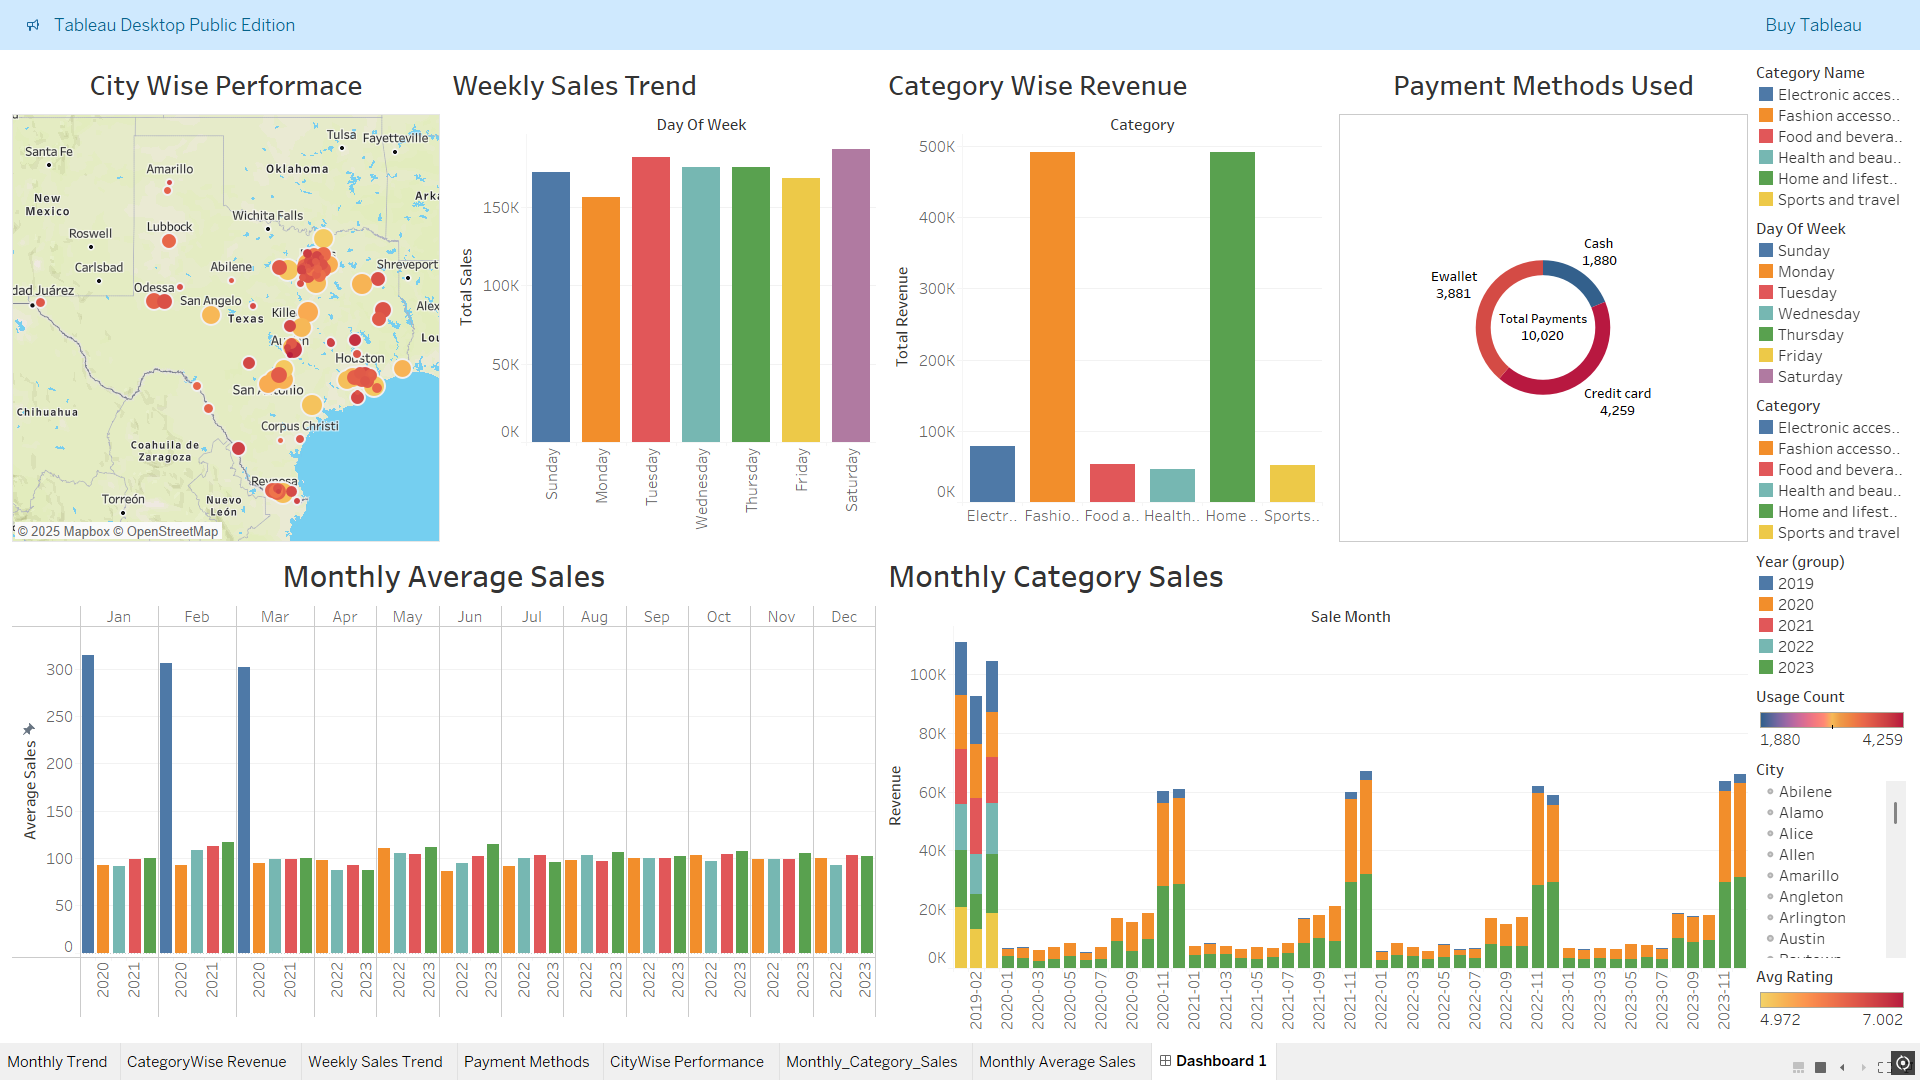

What the dashboard file says about the page in this screenshot:
{"tool":"tableau","page":{"name":"Dashboard 1","canvas":[1000,1000],"units":"permille","ordinal":0},"visuals":[{"type":"worksheet","title":"CityWise Performance","mark":"Automatic","box":[4.8,10,223.4,490]},{"type":"worksheet","title":"Weekly Sales Trend","mark":"Automatic","rows":["total_sales"],"cols":["day_of_week"],"box":[228.2,10,223.4,490]},{"type":"worksheet","title":"CategoryWise Revenue","mark":"Automatic","rows":["total_revenue"],"cols":["category"],"box":[451.7,10,233.4,490]},{"type":"worksheet","title":"Payment Methods","mark":"Pie","rows":["Calculation_2376493240498331650","Calculation_2376493240498331650"],"box":[685,10,213.6,490]},{"type":"legend","title":"CategoryWise Revenue","param":"[federated.0fmiogn0imw67k18lvof10006rys].[none:category_name:nk]","box":[898.6,10,96.6,159.5]},{"type":"legend","title":"Weekly Sales Trend","param":"[federated.0uotaad1rr5je811m7dol0nbb44z].[none:day_of_week:nk]","box":[898.6,169.5,96.6,159.5]},{"type":"legend","title":"Monthly_Category_Sales","param":"[federated.0b118ti0i18ln51dh2f7b1y27nz1].[none:category:nk]","box":[898.6,329.1,96.6,159.5]},{"type":"legend","title":"Monthly Average Sales","param":"[federated.06746b408di6w01b1sbk90eja7q6].[Year (group)]","box":[898.6,488.6,96.6,159.5]},{"type":"worksheet","title":"Monthly Average Sales","mark":"Bar","rows":["AverageSales"],"cols":["Month","Year"],"box":[4.8,500,446.8,490]},{"type":"worksheet","title":"Monthly_Category_Sales","mark":"Automatic","rows":["revenue"],"cols":["sale_month"],"box":[451.7,500,446.9,490]},{"type":"legend","title":"Payment Methods","param":"[federated.1qu5khe1pkrl0t17ogbge1m98rvr].[sum:usage_count:qk]","box":[898.6,648.1,96.6,91.1]},{"type":"legend","title":"CityWise Performance","param":"[federated.1ttqw5y1a5gfd513fwf9m1yjb0e7].[none:City:nk]","box":[898.6,739.3,96.6,159.5]},{"type":"legend","title":"CityWise Performance","param":"[federated.1ttqw5y1a5gfd513fwf9m1yjb0e7].[sum:avg_rating:qk]","box":[898.6,898.8,96.6,91.2]}]}

Visuals, with their boxes on the dashboard's canvas, which has no fixed pixel size, in thousandths of its width and height (x1, y1, x2, y2). These are canvas units, not pixel positions in the 1920x1080 screenshot, which may show the page scaled, cropped or inside an application window:
"CityWise Performance" worksheet: (x1=5, y1=10, x2=228, y2=500)
"Weekly Sales Trend" worksheet: (x1=228, y1=10, x2=452, y2=500)
"CategoryWise Revenue" worksheet: (x1=452, y1=10, x2=685, y2=500)
"Payment Methods" worksheet (Pie marks): (x1=685, y1=10, x2=899, y2=500)
"CategoryWise Revenue" legend: (x1=899, y1=10, x2=995, y2=170)
"Weekly Sales Trend" legend: (x1=899, y1=170, x2=995, y2=329)
"Monthly_Category_Sales" legend: (x1=899, y1=329, x2=995, y2=489)
"Monthly Average Sales" legend: (x1=899, y1=489, x2=995, y2=648)
"Monthly Average Sales" worksheet (Bar marks): (x1=5, y1=500, x2=452, y2=990)
"Monthly_Category_Sales" worksheet: (x1=452, y1=500, x2=899, y2=990)
"Payment Methods" legend: (x1=899, y1=648, x2=995, y2=739)
"CityWise Performance" legend: (x1=899, y1=739, x2=995, y2=899)
"CityWise Performance" legend: (x1=899, y1=899, x2=995, y2=990)
